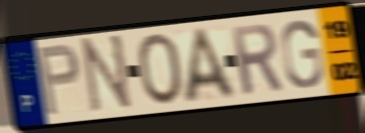A: (182, 24, 240, 106)
G: (279, 18, 325, 91)
N: (80, 31, 134, 115)
O: (135, 30, 185, 107)
P: (35, 41, 82, 119)
R: (228, 21, 286, 98)
